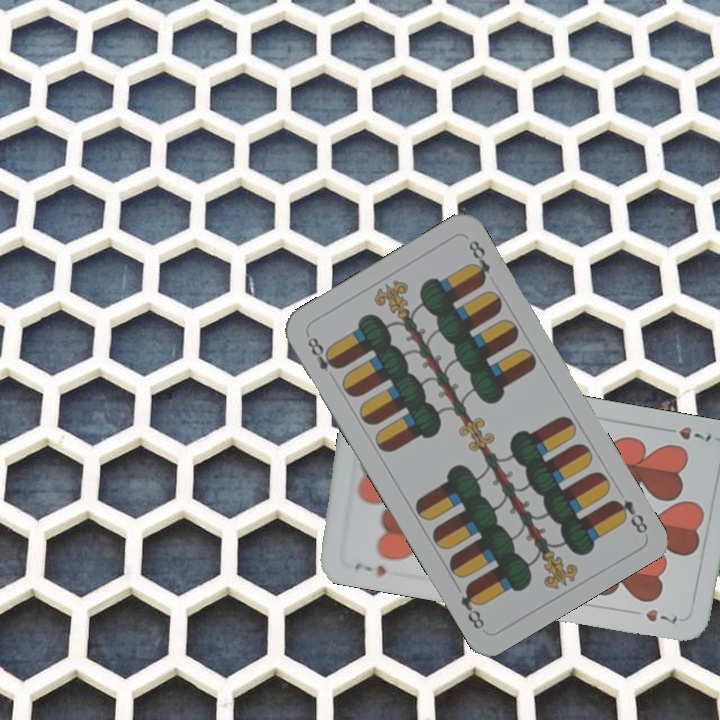E8: (607, 495, 650, 537), (303, 330, 342, 375)
H7: (658, 422, 714, 445), (350, 558, 390, 579)
